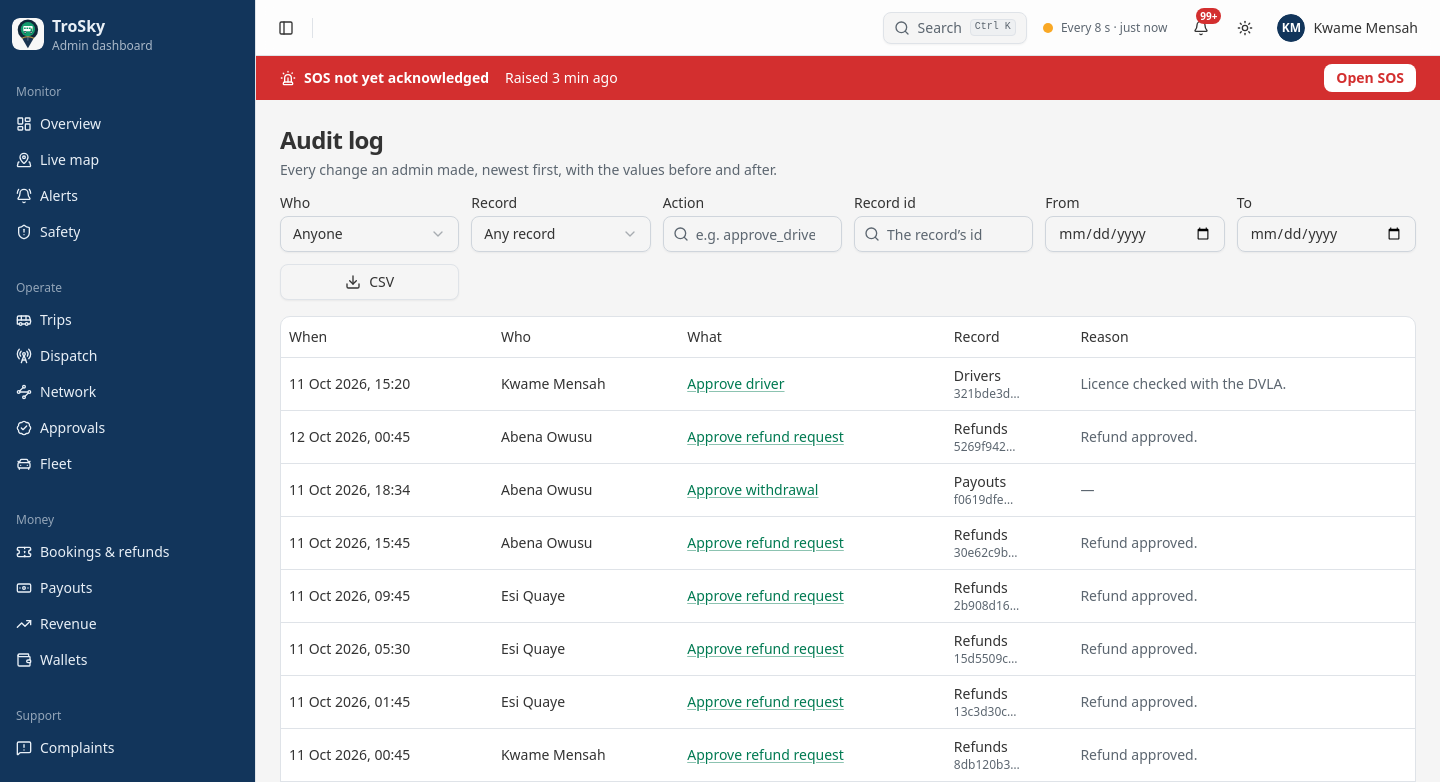
Test: Audit log › records an approval: who, why, and the values before and after
Expected: the row that starts with "11 Oct 2026, 15:20" shows "Kwame Mensah", [501,374,606,392]
Expected: the row that starts with "11 Oct 2026, 15:20" shows "Drivers", [954,366,1001,384]
Click the button "Approve driver" at [736, 384], box [687,374,784,394]
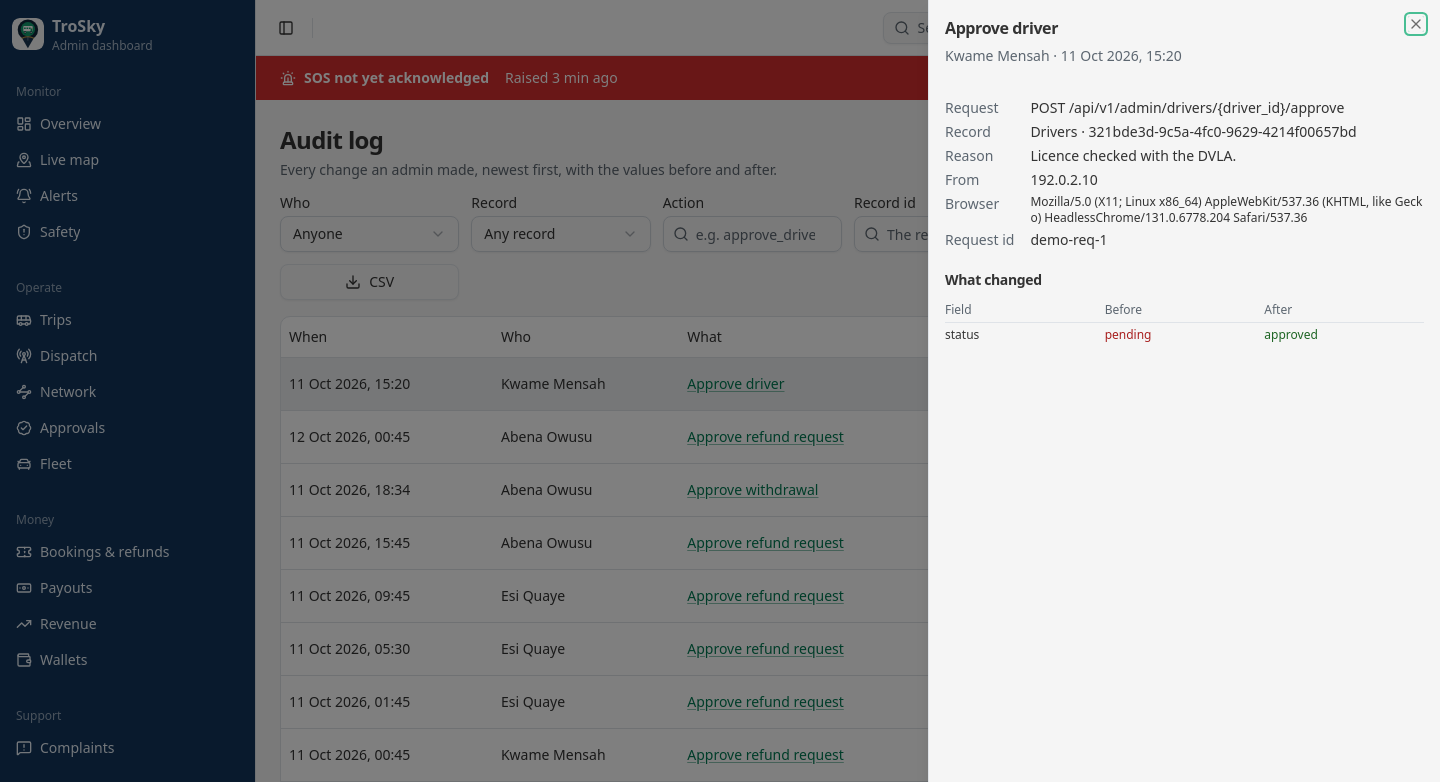
Expected: the cells read "pending", "approved", in this order, [1105,323,1264,347]; [1264,323,1424,347]
